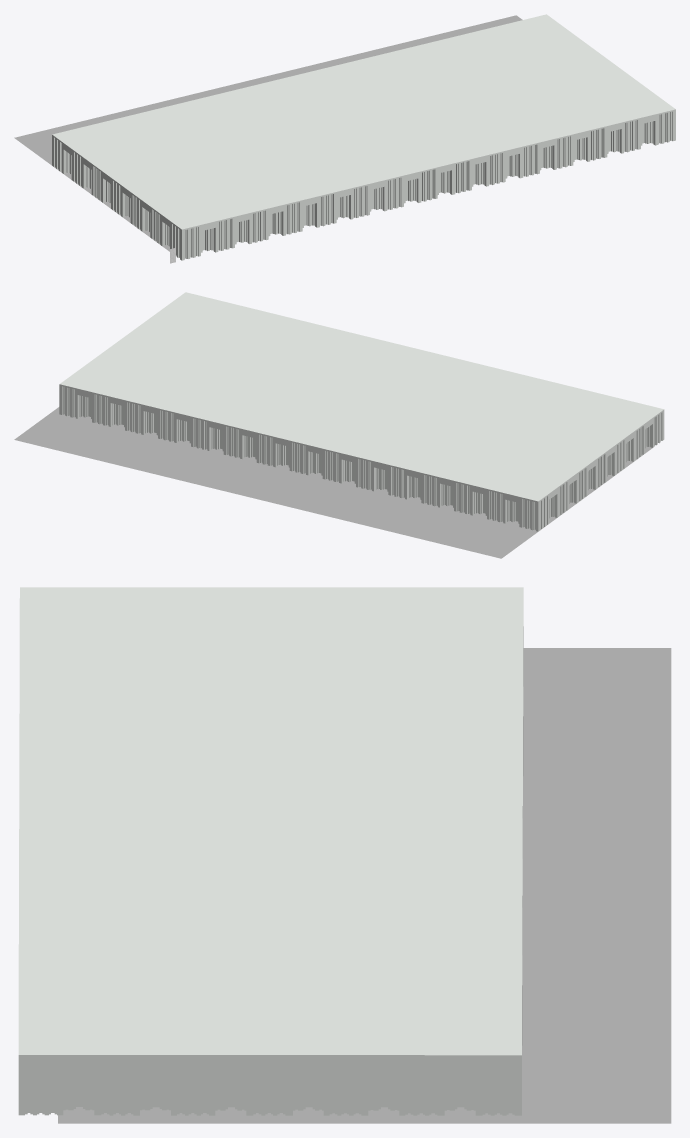
The picture shows the model from 3 angles, top to bottom: view 1: azimuth 30°, elevation 25°; view 2: azimuth 150°, elevation 25°; view 3: azimuth 270°, elevation 25°; orthographic projection. The views are drawn at different scales.
Visible parts, largest first — view 1: Mesh1 Model, Mesh2 Model; view 2: Mesh1 Model, Mesh2 Model; view 3: Mesh1 Model, Mesh2 Model.
Part boxes in pixels (x1,y1,x2,y2): Mesh1 Model: (52,14,675,260); Mesh2 Model: (14,15,522,251); Mesh1 Model: (59,292,664,531); Mesh2 Model: (14,407,652,558); Mesh1 Model: (18,587,523,1115); Mesh2 Model: (58,648,671,1123).
Size of the model in its own units: 59.54 by 3.45 by 33.73.
3 materials, 2 textured.
